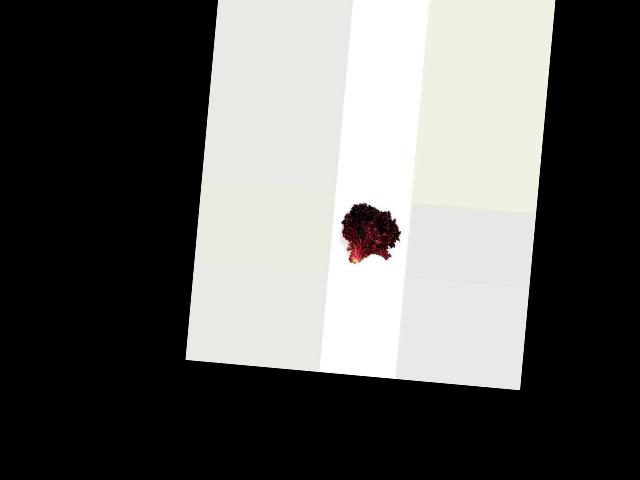lettuce: (340, 198, 404, 273)
